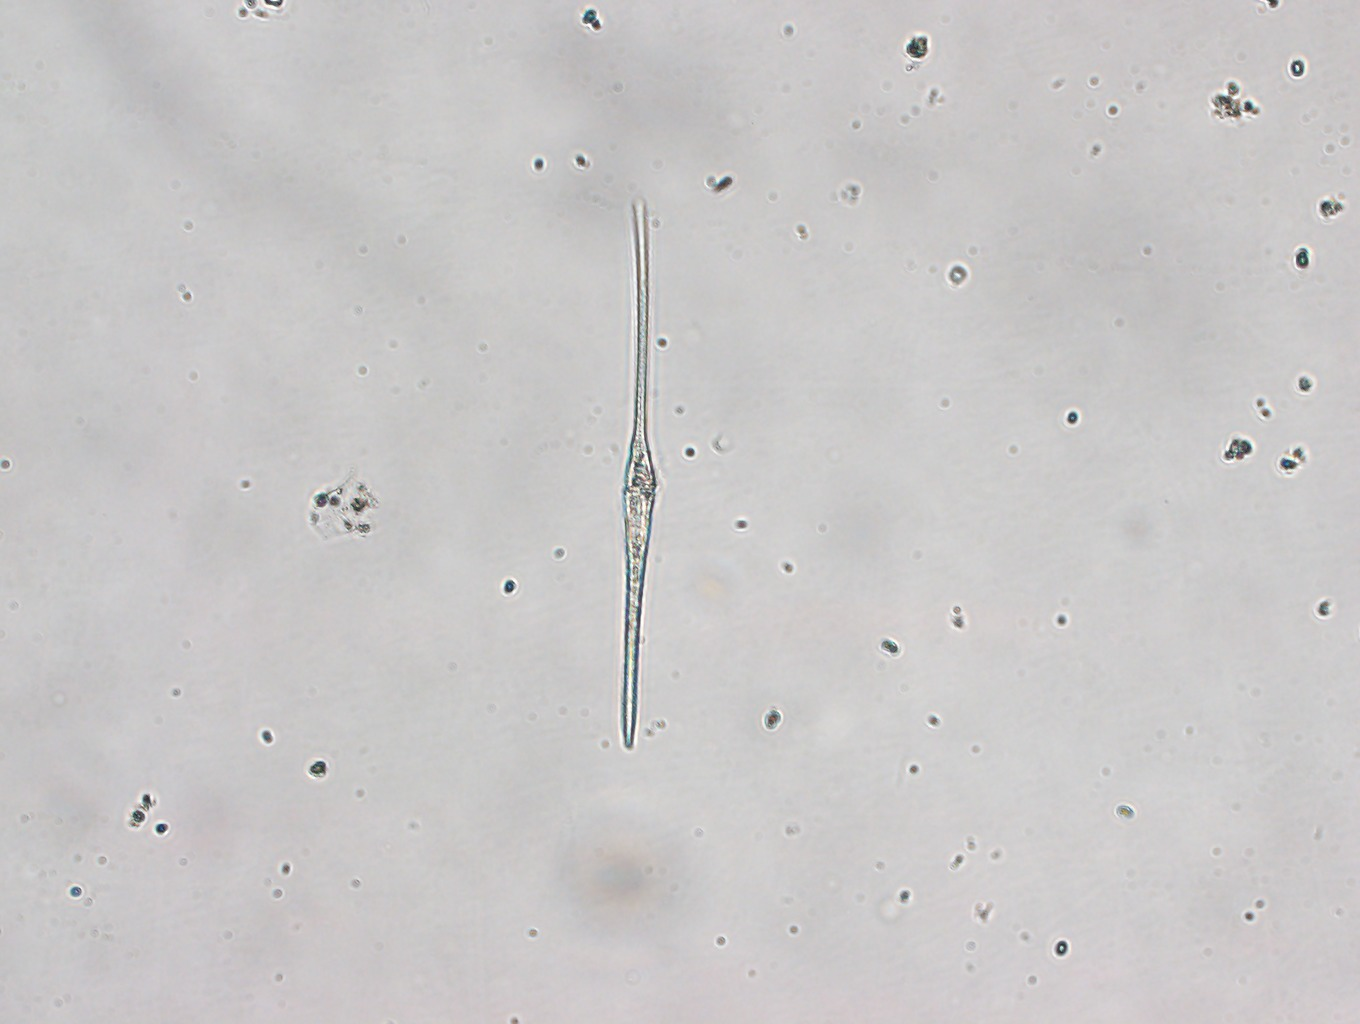ceratium fusus: (602, 186, 670, 751)
